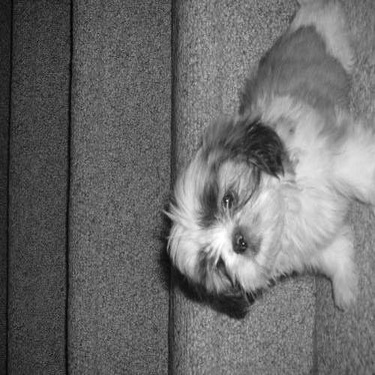dog: (160, 4, 369, 324)
